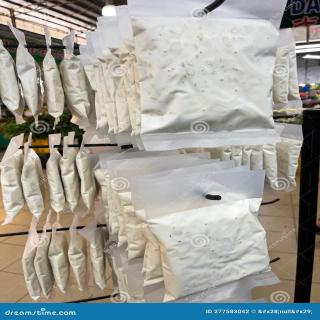Tempe: (2, 11, 288, 304), (131, 162, 274, 303), (131, 16, 282, 146), (84, 31, 141, 138), (7, 22, 45, 128), (60, 31, 93, 128), (42, 27, 66, 130), (1, 41, 27, 126)
